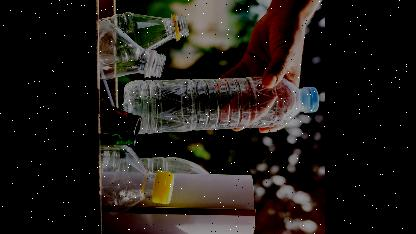Plastic Bottle: (122, 79, 318, 133), (101, 146, 177, 215), (96, 20, 164, 78)
